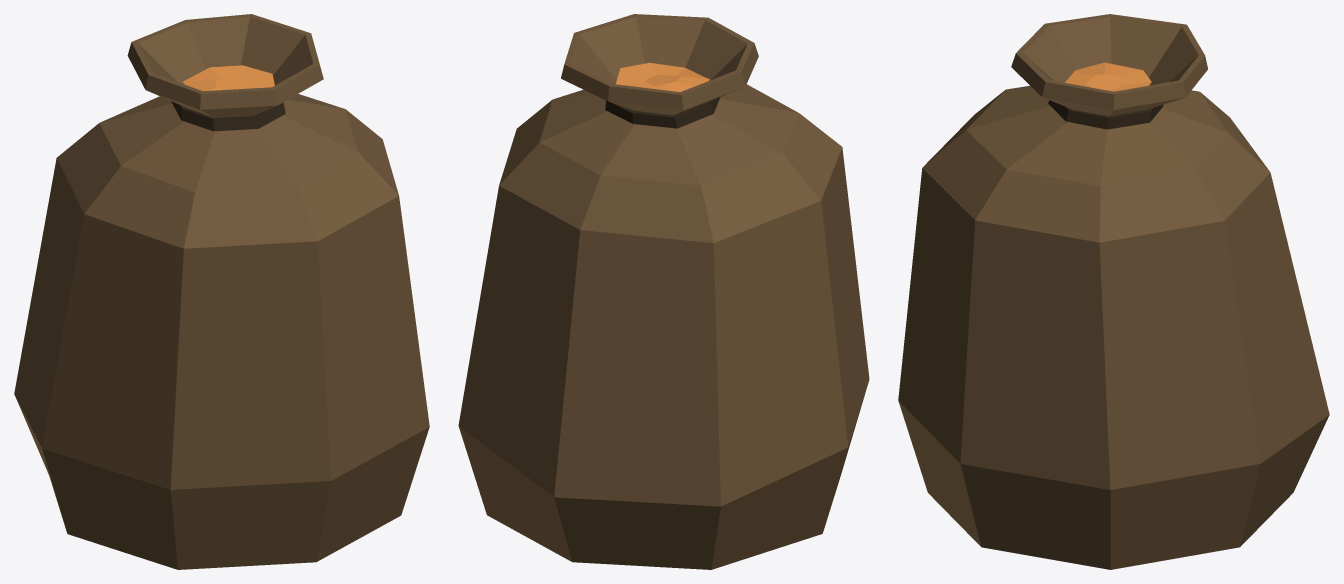
The model's file is Bag_4.fbx.
The picture shows the model from 3 angles, left to right: view 1: azimuth 30°, elevation 25°; view 2: azimuth 150°, elevation 25°; view 3: azimuth 270°, elevation 25°; orthographic projection.
Visible parts, largest first — view 1: Bag_4; view 2: Bag_4; view 3: Bag_4.
Boxes of the visible parts, x1,y1,x2,y2 form: Bag_4: (14, 14, 429, 569); Bag_4: (458, 14, 869, 569); Bag_4: (898, 14, 1329, 569).
Bounding box in the file's own units: 90.08 × 103 × 91.55.
